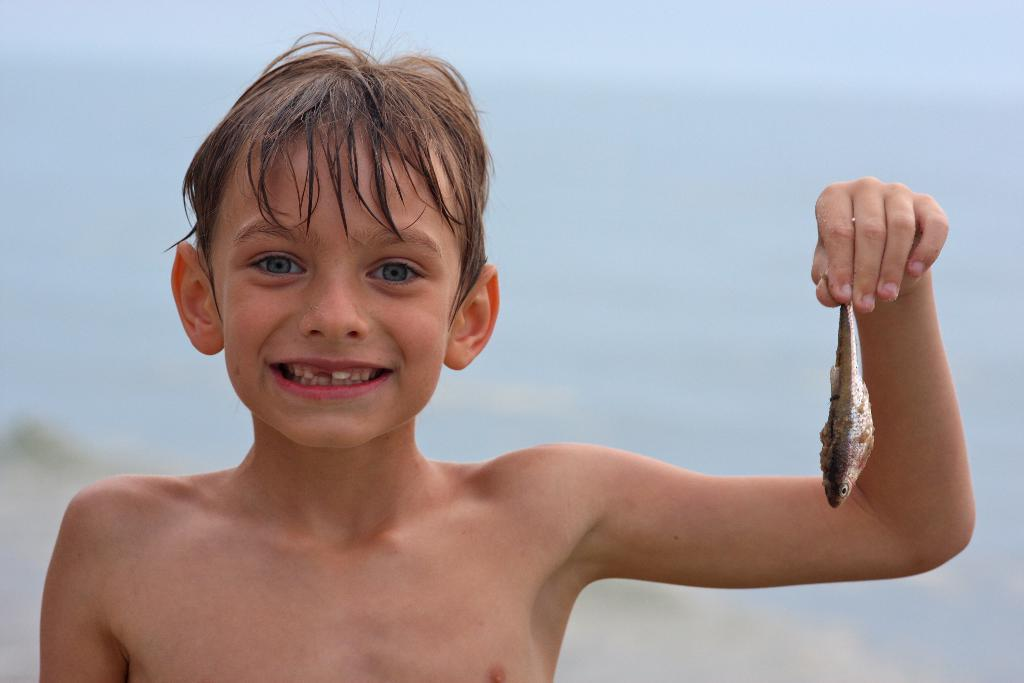Sem Máscara: (210, 113, 461, 449)
